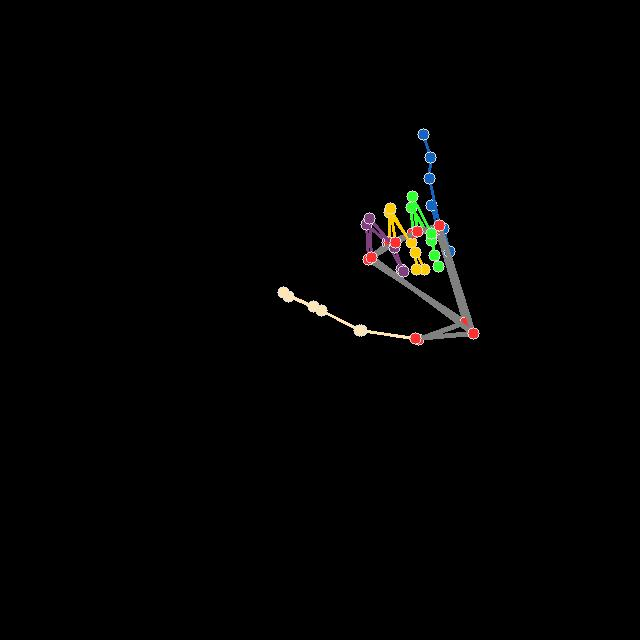skr: (276, 126, 481, 347)
